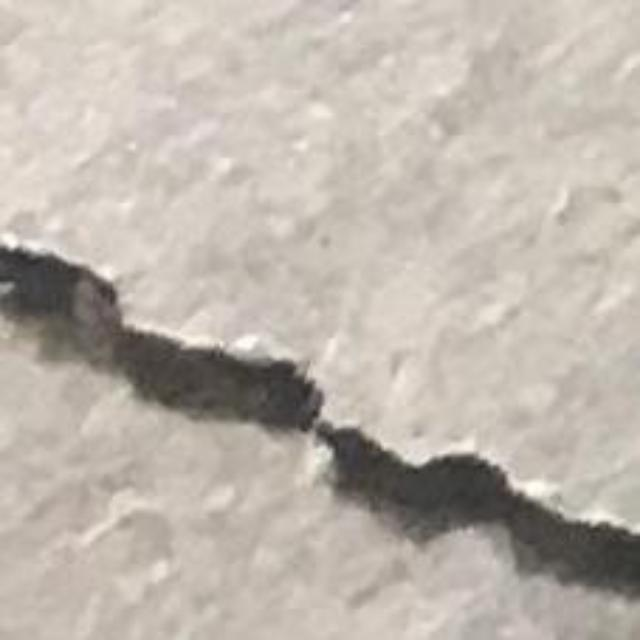crack: (0, 243, 639, 625)
